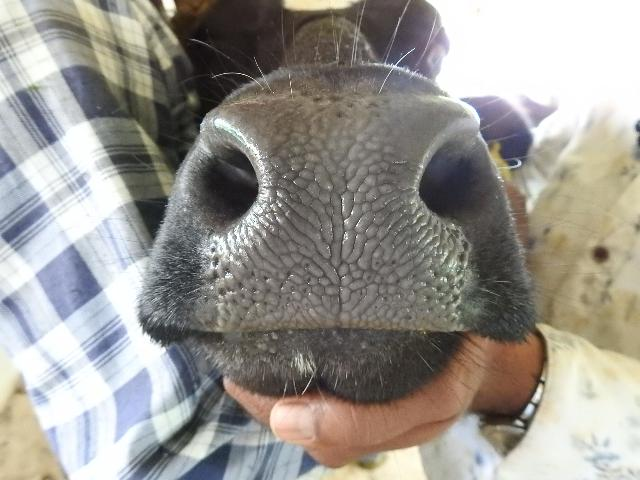Muzzle: (221, 106, 453, 332)
